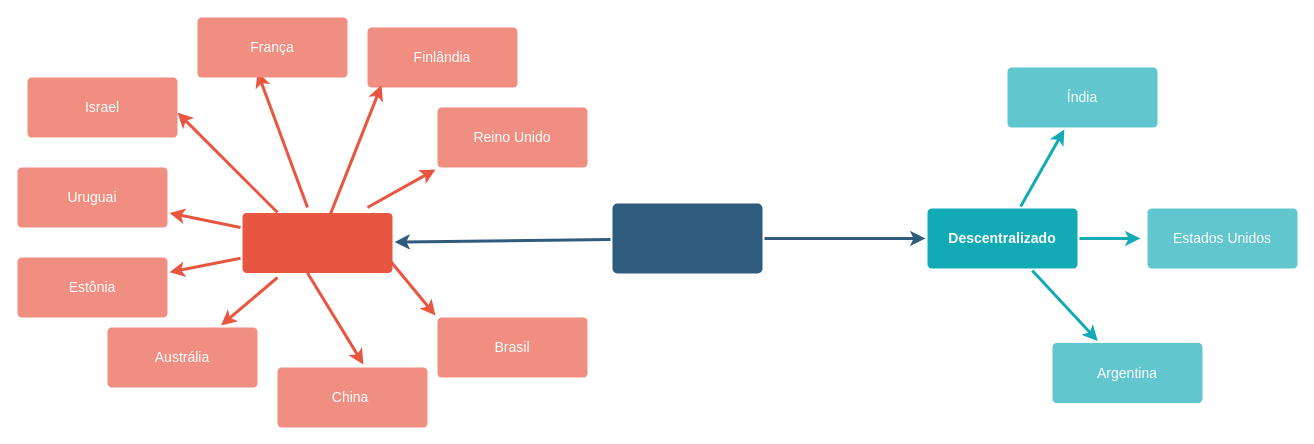
Image size: 1314x444. Some labels were removed from this diagram. The box of each missing label's shape, as (x1, y1, x2, y2) in pixels:
Centralizado: (242, 212, 392, 272)
Currículo: (612, 203, 762, 273)
